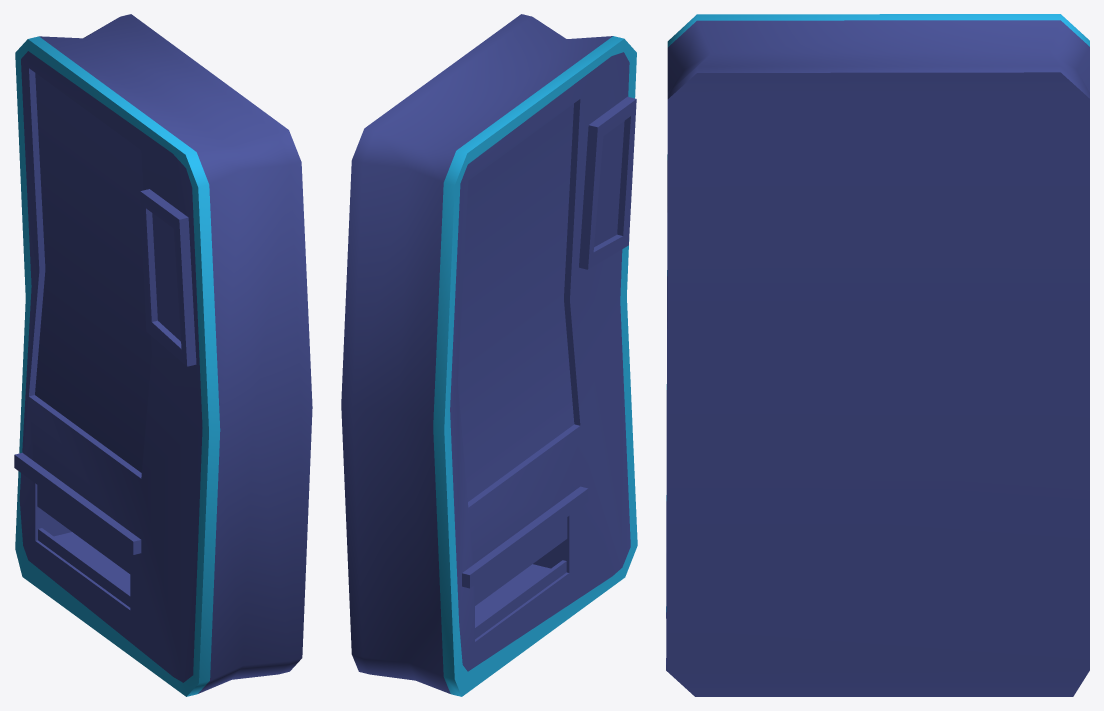
The model's file is SM_VendingMachine_01.fbx.
3 renders of one model, left to right at view 1: azimuth 30°, elevation 25°; view 2: azimuth 150°, elevation 25°; view 3: azimuth 270°, elevation 25°, orthographic. The views are drawn at different scales.
Visible parts, largest first — view 1: SM_VendingMachine_01; view 2: SM_VendingMachine_01; view 3: SM_VendingMachine_01.
Boxes of the visible parts, x1=… form: SM_VendingMachine_01: x1=14, y1=14, x2=312, y2=696; SM_VendingMachine_01: x1=341, y1=14, x2=637, y2=696; SM_VendingMachine_01: x1=666, y1=14, x2=1089, y2=696.
Size of the model in its own units: 209 by 880 by 541.
